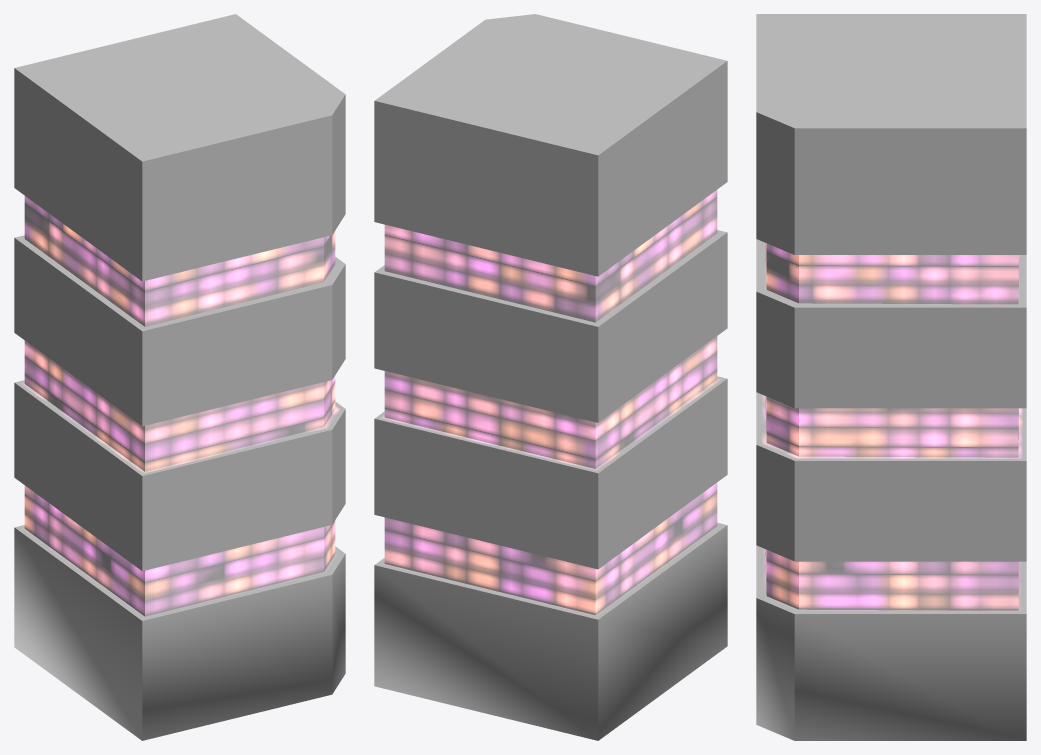
The model's file is BuildingBase.fbx.
3 views of the same model, side by side, from view 1: azimuth 30°, elevation 25°; view 2: azimuth 150°, elevation 25°; view 3: azimuth 270°, elevation 25° (orthographic). The views are drawn at different scales.
Visible parts, largest first — view 1: BuildingBase; view 2: BuildingBase; view 3: BuildingBase.
Boxes of the visible parts, x1,y1,x2,y2 form: BuildingBase: (14, 14, 345, 740); BuildingBase: (374, 14, 727, 740); BuildingBase: (756, 14, 1026, 740).
Size of the model in its own units: 200 by 500 by 200.
